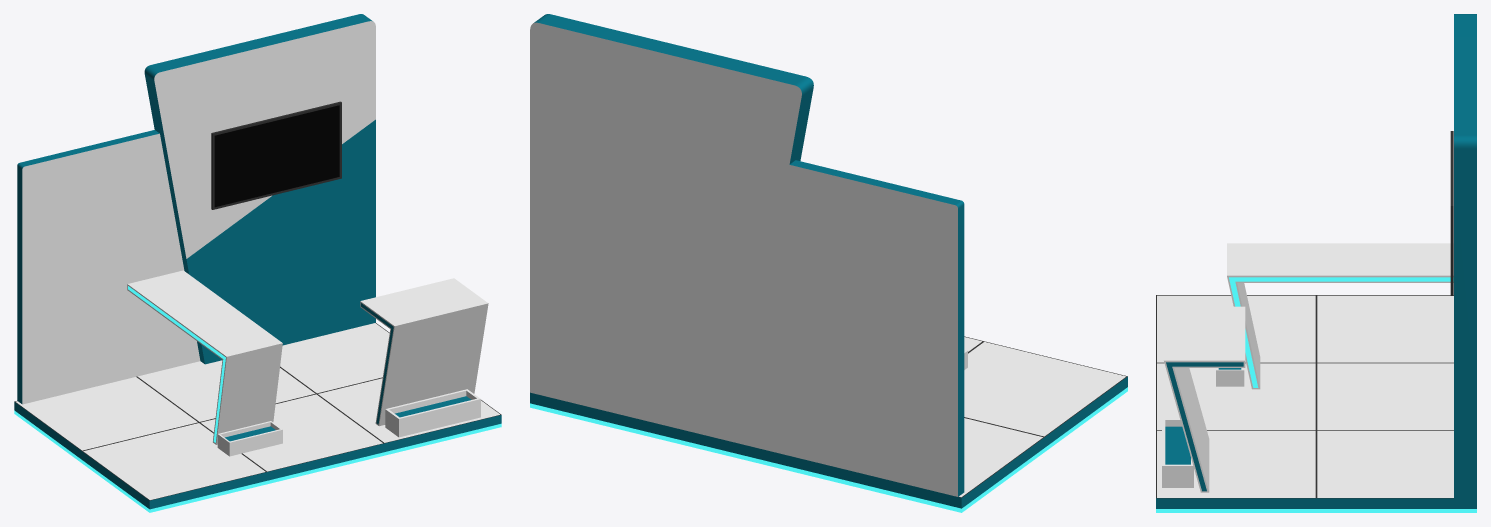
Rendered from booth.fbx.
3 views of the same model, side by side, from view 1: azimuth 30°, elevation 25°; view 2: azimuth 150°, elevation 25°; view 3: azimuth 270°, elevation 25° (orthographic). The views are drawn at different scales.
Parts seen in each view (by area): view 1: Box003, Box009, Box005, Rectangle001, Rectangle002, Box004, Box006, Box007; view 2: Box003, Box005, Box009; view 3: Box009, Box003, Rectangle002, Rectangle001, Box006, Box004, Box007.
Part boxes in pixels (<box>): Box003: <box>144,14,375,364</box>; Box009: <box>14,323,501,512</box>; Box005: <box>17,130,200,404</box>; Rectangle001: <box>360,278,488,426</box>; Rectangle002: <box>127,270,282,444</box>; Box004: <box>211,101,341,209</box>; Box006: <box>385,389,480,437</box>; Box007: <box>217,421,282,456</box>; Box003: <box>530,14,813,443</box>; Box005: <box>739,160,964,496</box>; Box009: <box>530,336,1127,512</box>; Box009: <box>1156,295,1476,512</box>; Box003: <box>1454,14,1476,498</box>; Rectangle002: <box>1227,243,1453,389</box>; Rectangle001: <box>1163,306,1245,492</box>; Box006: <box>1162,418,1193,487</box>; Box004: <box>1450,131,1453,295</box>; Box007: <box>1216,368,1244,386</box>.
Bounding box in the file's own units: 3 × 2.57 × 2.
